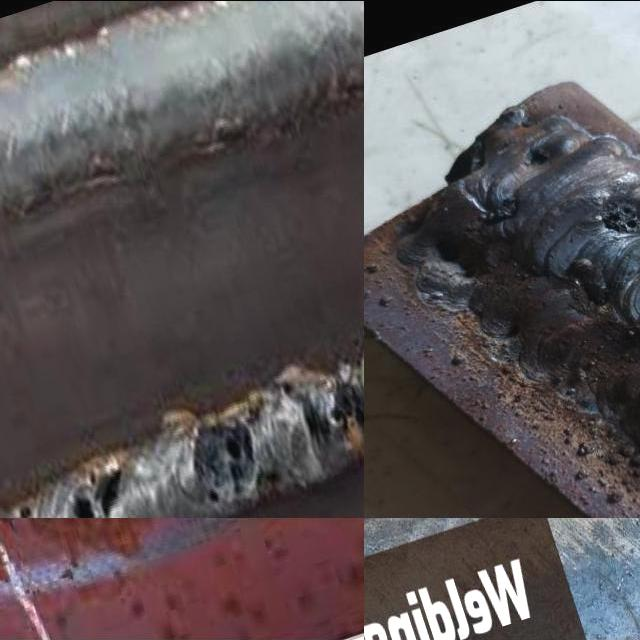defect: (191, 420, 264, 504), (298, 377, 364, 456), (67, 452, 132, 518), (473, 193, 522, 230), (596, 197, 640, 235), (518, 145, 552, 170), (12, 499, 40, 518)
